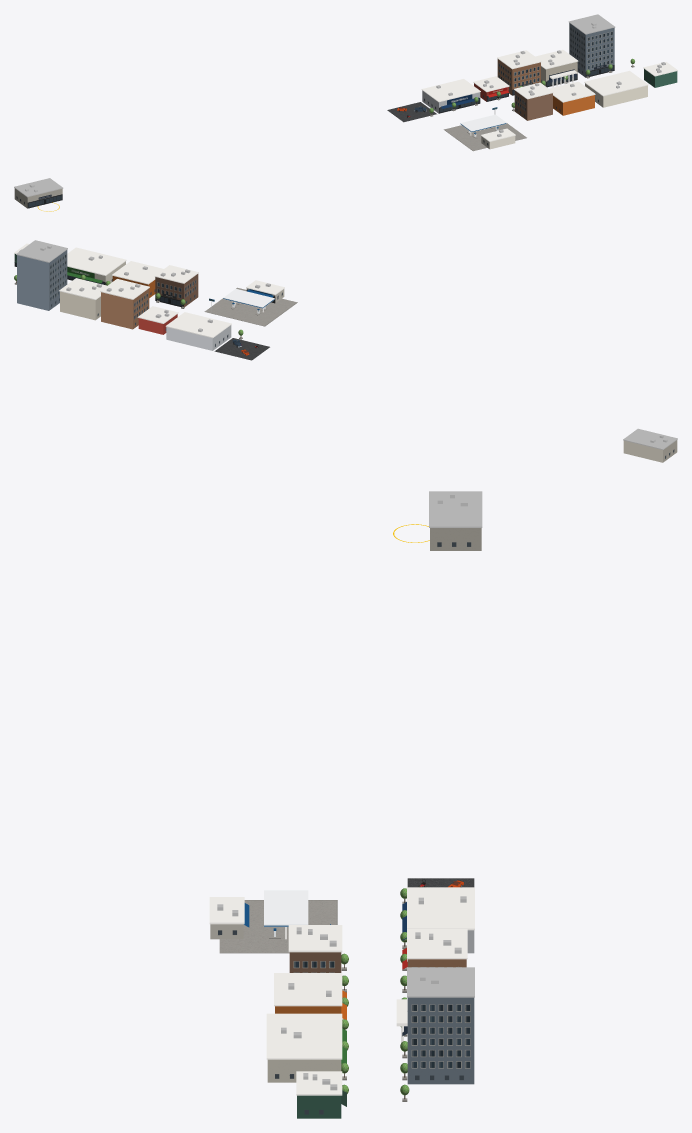
Rendered from downtown.glb.
3 views of the same model, one above another, from view 1: azimuth 30°, elevation 25°; view 2: azimuth 150°, elevation 25°; view 3: azimuth 270°, elevation 25° (orthographic). The views are drawn at different scales.
Size of the model in its own units: 386 by 27.55 by 73.98.
Materials: 46 (46 with a texture image).
